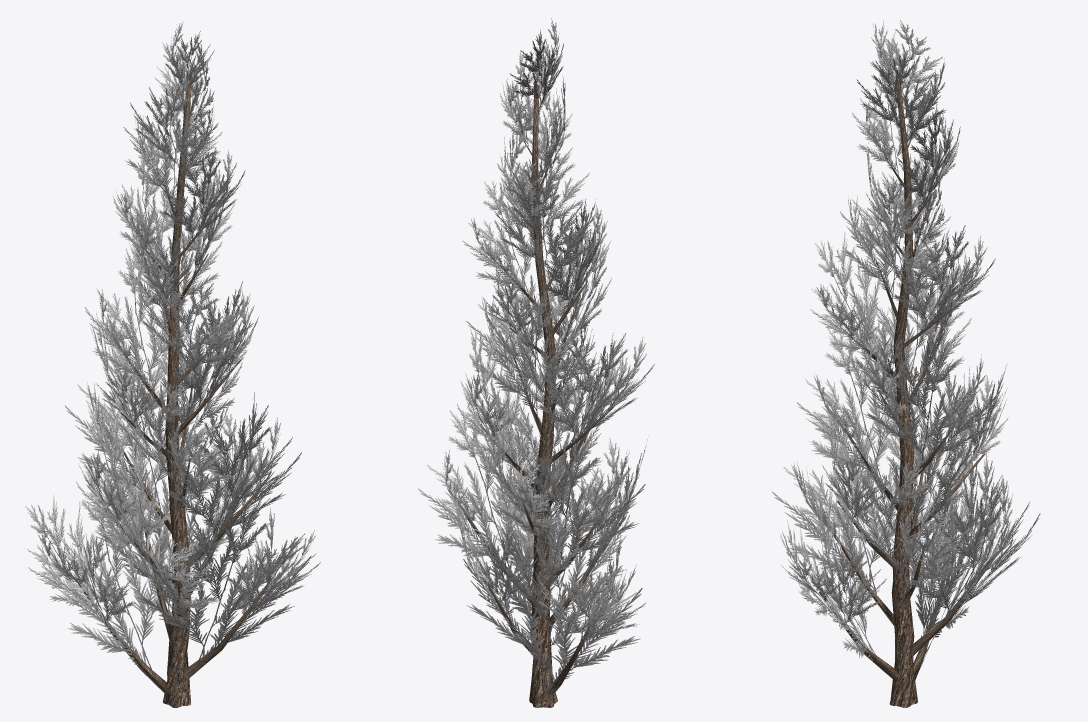
Rendered from tree1.obj.
3 renders of one model, left to right at view 1: azimuth 30°, elevation 25°; view 2: azimuth 150°, elevation 25°; view 3: azimuth 270°, elevation 25°, orthographic.
Visible parts, largest first — view 1: bark06, juniper leaf; view 2: bark06, juniper leaf; view 3: bark06, juniper leaf.
Boxes of the visible parts, x1=… form: bark06: x1=25, y1=21, x2=320, y2=669; juniper leaf: x1=76, y1=78, x2=267, y2=707; bark06: x1=418, y1=18, x2=654, y2=688; juniper leaf: x1=464, y1=83, x2=620, y2=707; bark06: x1=772, y1=20, x2=1040, y2=669; juniper leaf: x1=819, y1=80, x2=998, y2=707.
Bounding box in the file's own units: 98.71 × 213 × 96.08.
2 materials, 2 textured.
